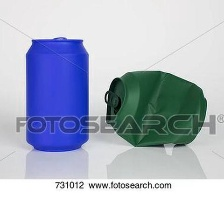can: (101, 65, 213, 154), (20, 33, 92, 153)
